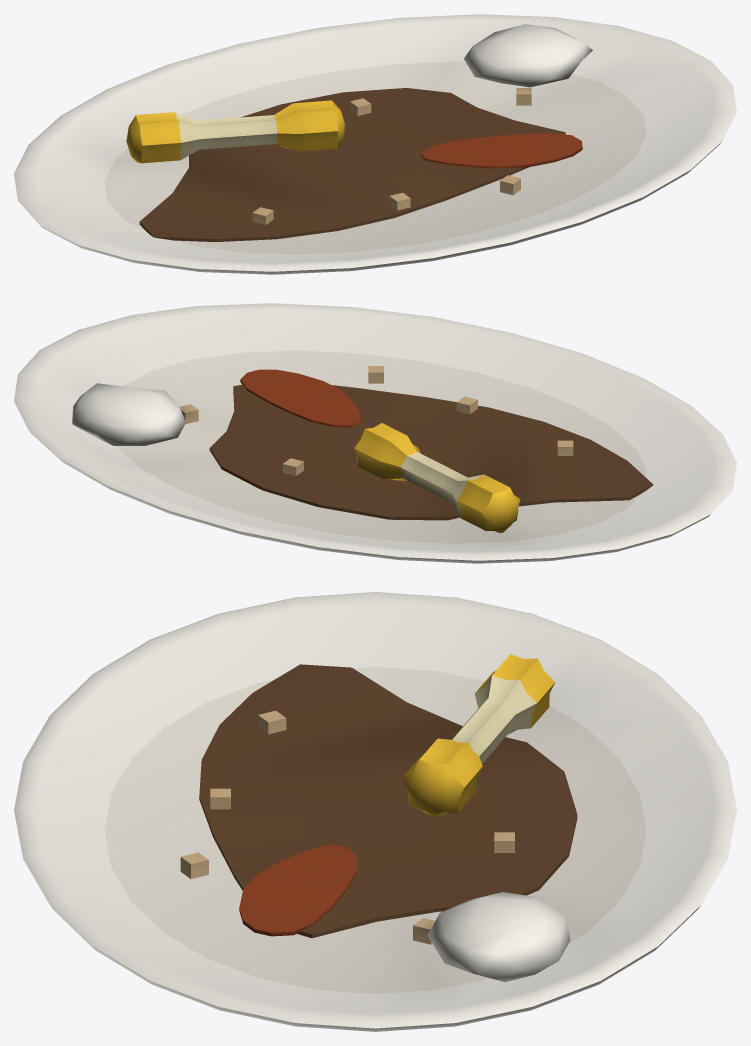
The model's file is platterDirty.glb.
3 renders of one model, top to bottom at view 1: azimuth 30°, elevation 25°; view 2: azimuth 150°, elevation 25°; view 3: azimuth 270°, elevation 25°, orthographic. The views are drawn at different scales.
Visible parts, largest first — view 1: platterDirty; view 2: platterDirty; view 3: platterDirty.
Boxes of the visible parts, <box> form: platterDirty: <box>14,14,736,274</box>; platterDirty: <box>14,303,736,563</box>; platterDirty: <box>14,592,736,1031</box>.
Bounding box in the file's own units: 0.4 × 0.0339 × 0.28.
